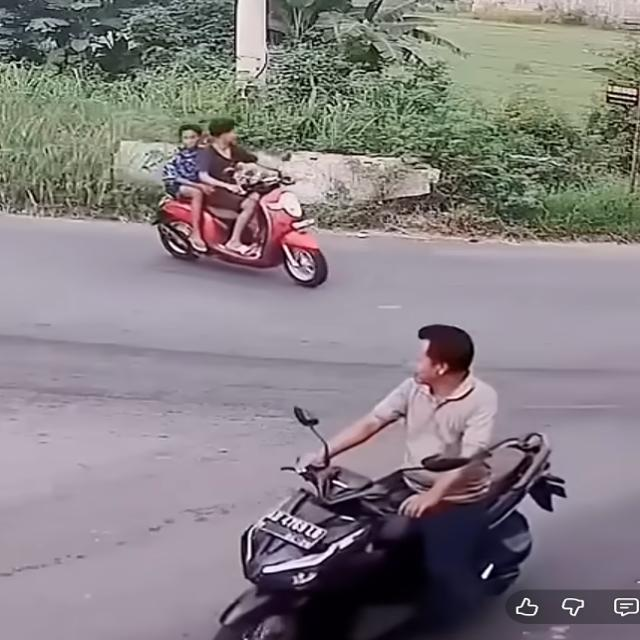WithoutHelmet: (295, 322, 503, 640), (189, 119, 291, 257), (160, 123, 209, 254)
